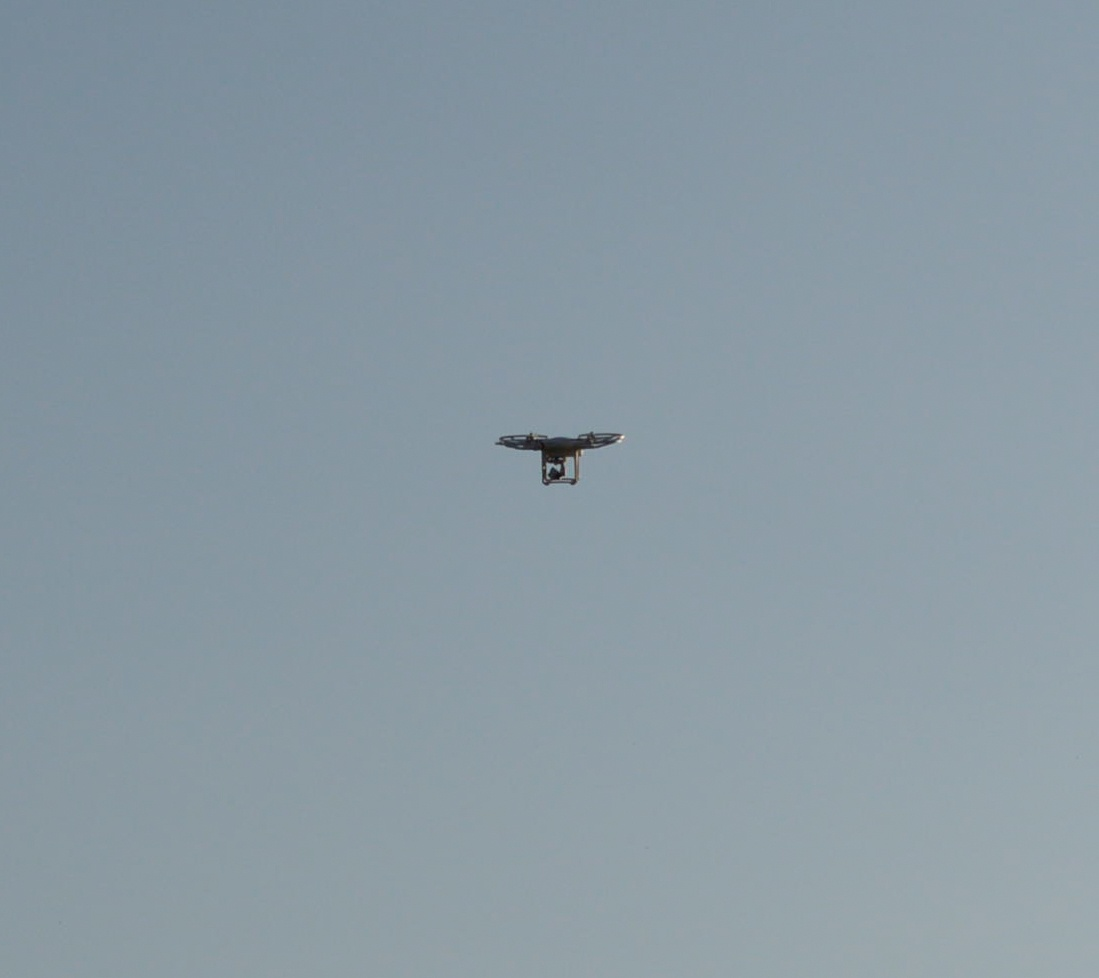DJI: (492, 426, 627, 485)
